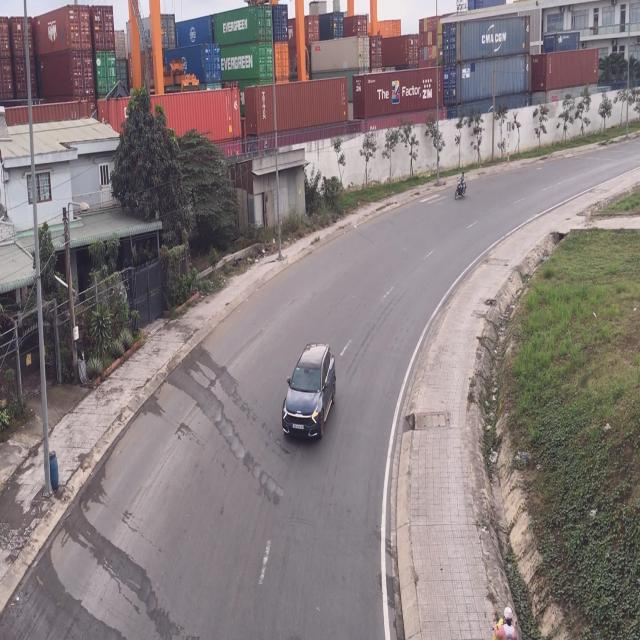car: (280, 343, 336, 445)
motorbike: (454, 172, 467, 198)
